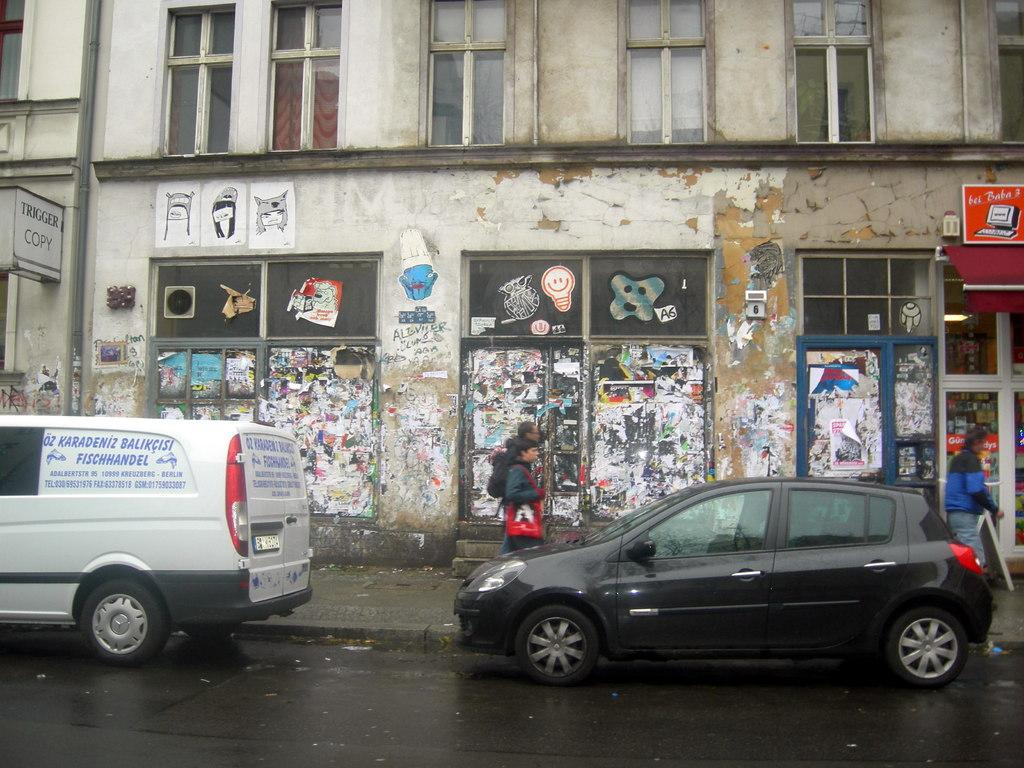vehicle: (453, 477, 996, 687), (1, 414, 313, 666)
